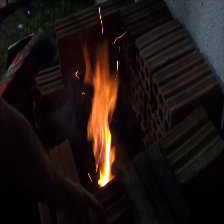fire: (83, 41, 120, 185)
